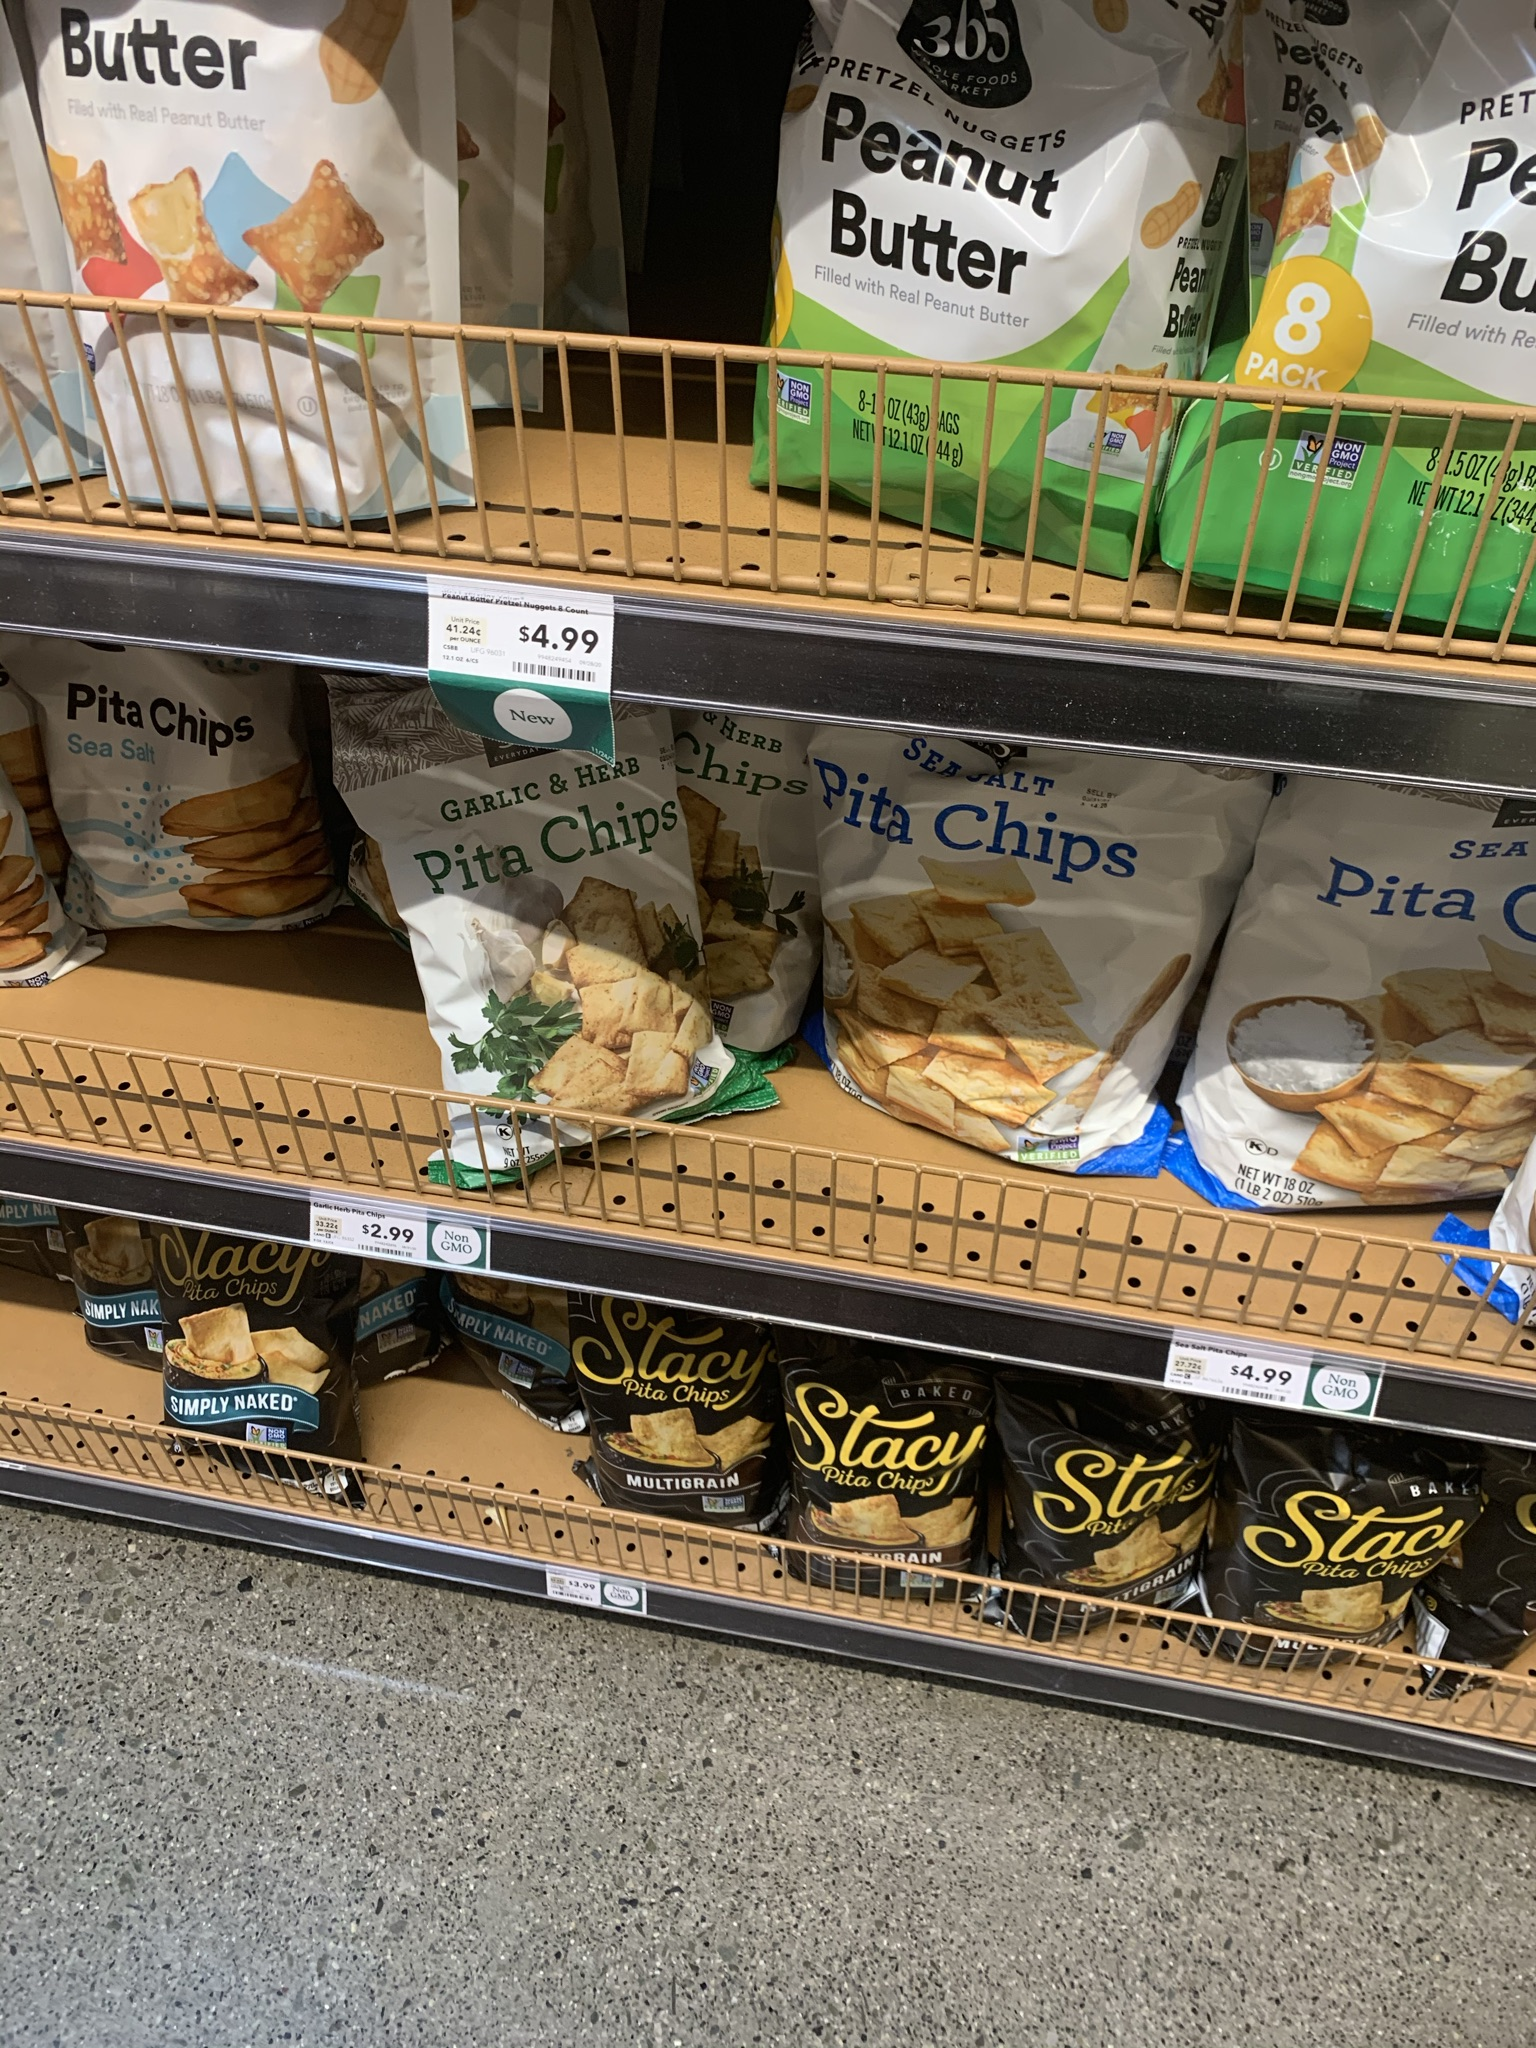Chips: (757, 2, 1171, 572), (34, 2, 466, 519), (148, 1209, 369, 1480), (1221, 1429, 1465, 1669), (779, 1335, 987, 1587), (997, 1380, 1212, 1624), (566, 1285, 773, 1526)
